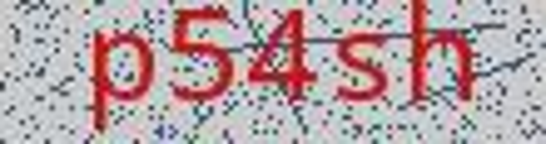4: (244, 1, 320, 127)
5: (165, 1, 238, 127)
h: (398, 1, 487, 127)
p: (81, 26, 165, 140)
s: (327, 21, 400, 123)
